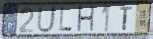1: (100, 4, 111, 34)
2: (18, 6, 35, 34)
H: (76, 5, 96, 34)
L: (58, 7, 74, 32)
T: (118, 6, 134, 32)
U: (36, 5, 58, 34)
